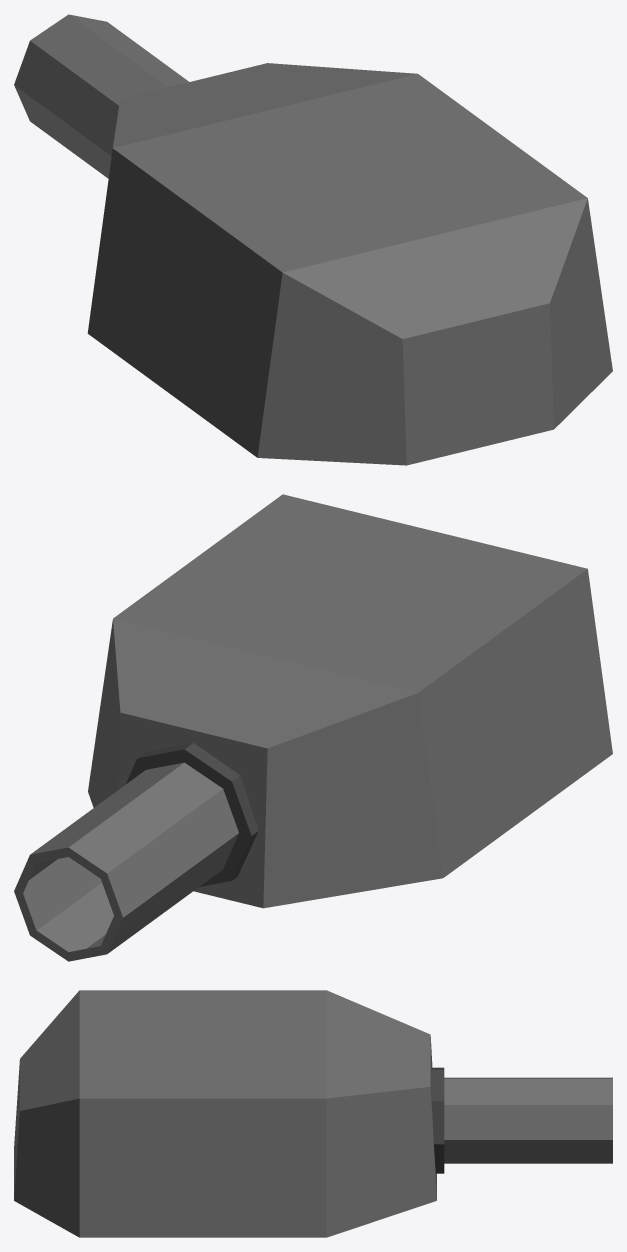
The model's file is Big3.fbx.
The picture shows the model from 3 angles, top to bottom: view 1: azimuth 30°, elevation 25°; view 2: azimuth 150°, elevation 25°; view 3: azimuth 270°, elevation 25°; orthographic projection. The views are drawn at different scales.
Visible parts, largest first — view 1: Cube.002; view 2: Cube.002; view 3: Cube.002.
Part boxes in pixels (bbox=[...]): Cube.002: bbox=[14, 14, 612, 465]; Cube.002: bbox=[14, 494, 612, 961]; Cube.002: bbox=[14, 990, 612, 1237].
Size of the model in its own units: 146 by 70.57 by 294.
Materials: 1 (1 with a texture image).
